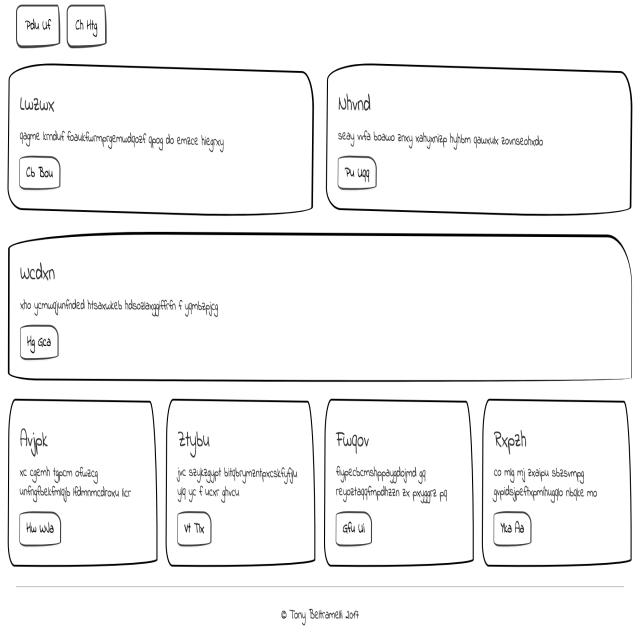Button: (334, 148, 378, 192), (20, 155, 66, 194), (334, 509, 382, 545), (15, 509, 62, 545), (492, 510, 536, 546), (180, 517, 223, 549), (17, 334, 67, 361)
Card: (4, 235, 636, 388), (6, 65, 312, 223), (328, 62, 634, 219), (326, 398, 478, 568), (483, 406, 636, 572), (166, 403, 314, 573), (6, 400, 152, 562)
Footer: (4, 584, 640, 639)
Heading 6: (10, 248, 63, 288), (334, 82, 382, 124), (18, 85, 66, 125), (490, 426, 540, 460), (11, 418, 62, 450), (330, 427, 388, 450), (177, 423, 221, 450)
Navigation Bar: (12, 2, 108, 48)
Paragraph: (15, 124, 251, 160), (335, 120, 549, 152), (176, 452, 301, 506), (15, 291, 243, 318), (12, 459, 133, 501), (491, 464, 610, 506), (333, 461, 456, 501)
